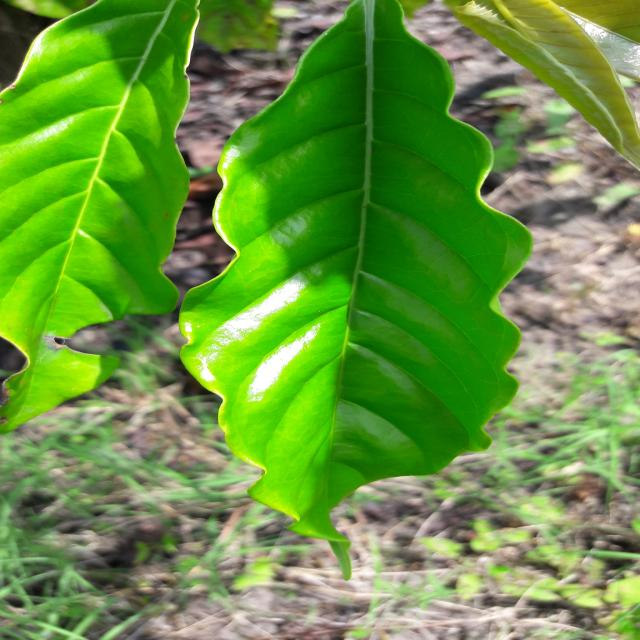Sanas: (176, 0, 534, 571)
